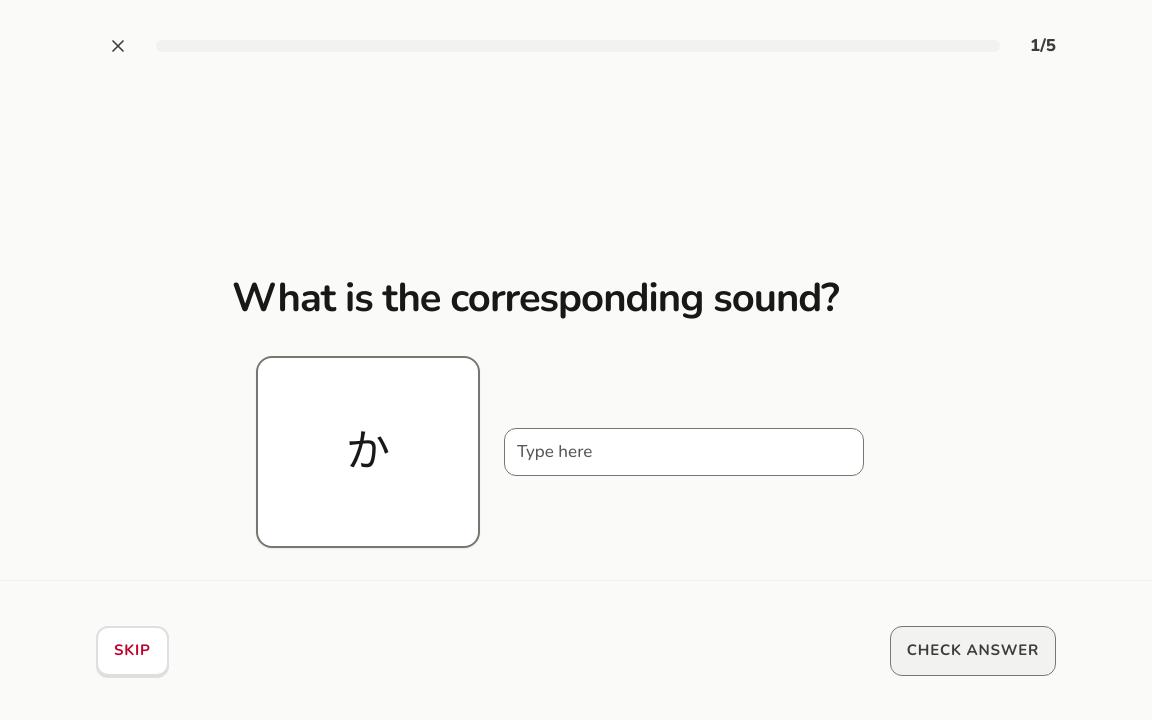
Test: delays hard-mode audio until after checking a reading
The image size is (1152, 720).
Expected: the heading "What is the corresponding sound?" is shown, [232,276,920,320]
Type "wrong" into the field at [684, 452], box [504,428,864,476]
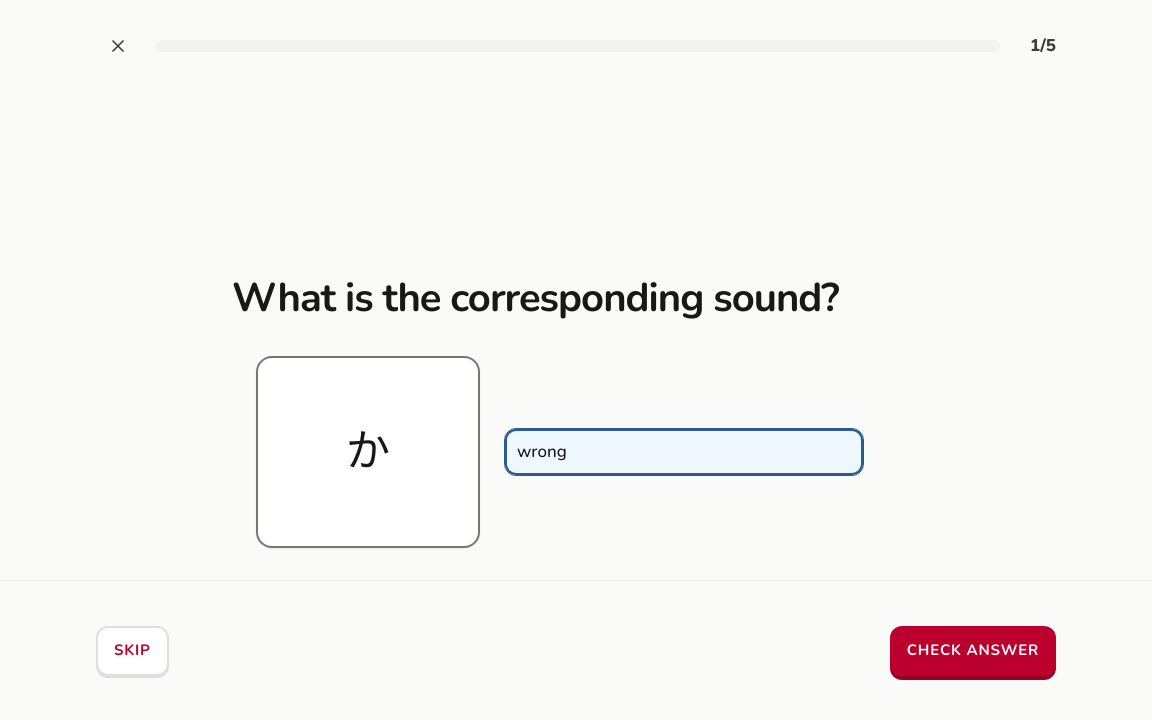
Click the button "Check answer" at [973, 650], box [890,626,1056,676]
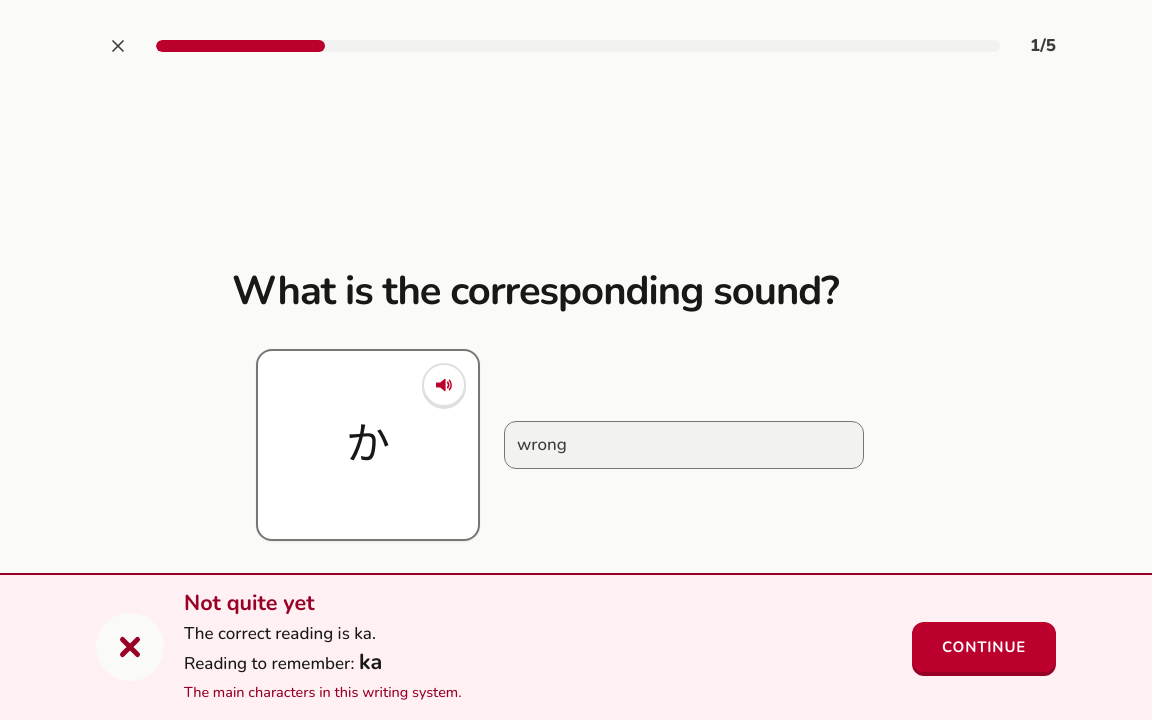
Now the button named "Play pronunciation" is shown, box [422,363,466,407]
